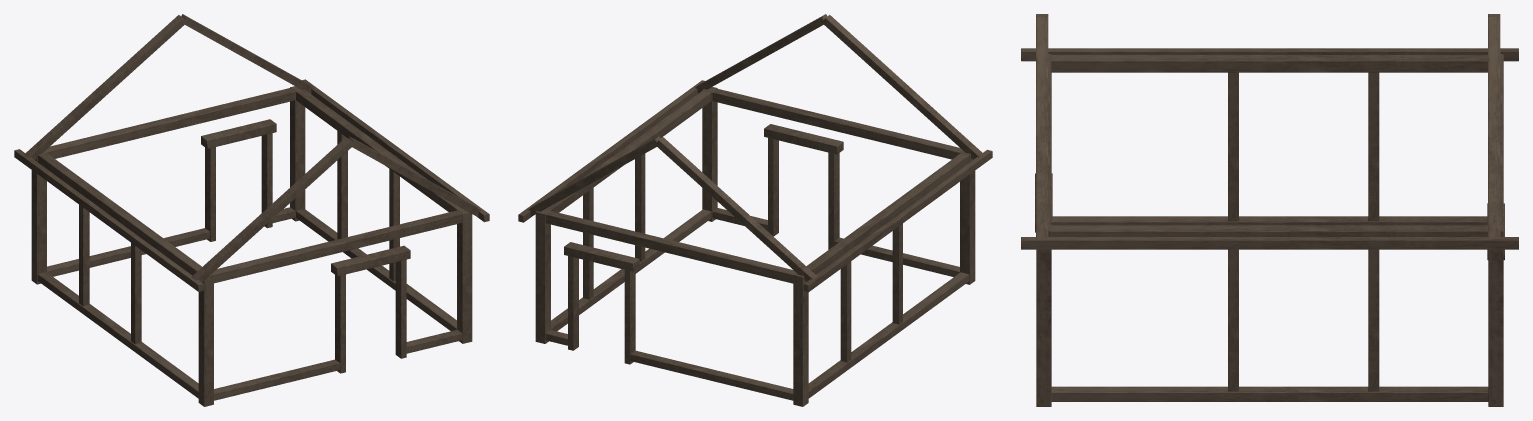
Rendered from BW_Bakery02_Timber.fbx.
3 renders of one model, left to right at view 1: azimuth 30°, elevation 25°; view 2: azimuth 150°, elevation 25°; view 3: azimuth 270°, elevation 25°, orthographic. The views are drawn at different scales.
Visible parts, largest first — view 1: BW_Bakery02_Timber; view 2: BW_Bakery02_Timber; view 3: BW_Bakery02_Timber.
Part boxes in pixels (box(x1,y1,x2,y2)): BW_Bakery02_Timber: box(14, 14, 489, 406); BW_Bakery02_Timber: box(518, 14, 992, 406); BW_Bakery02_Timber: box(1021, 14, 1518, 406).
Size of the model in its own units: 7.44 by 5.64 by 8.15.
